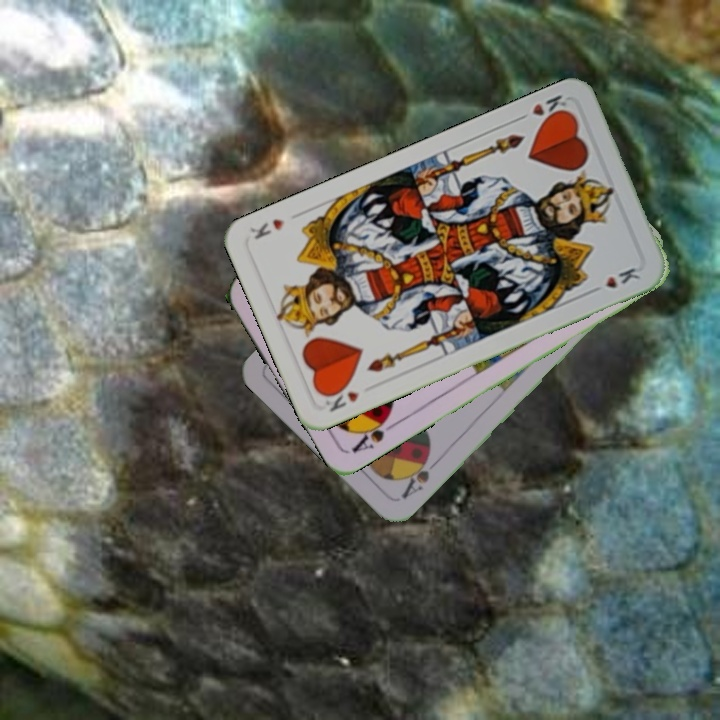HK: (527, 90, 572, 126), (317, 381, 362, 415)
SA: (347, 409, 400, 456), (397, 449, 441, 502)
